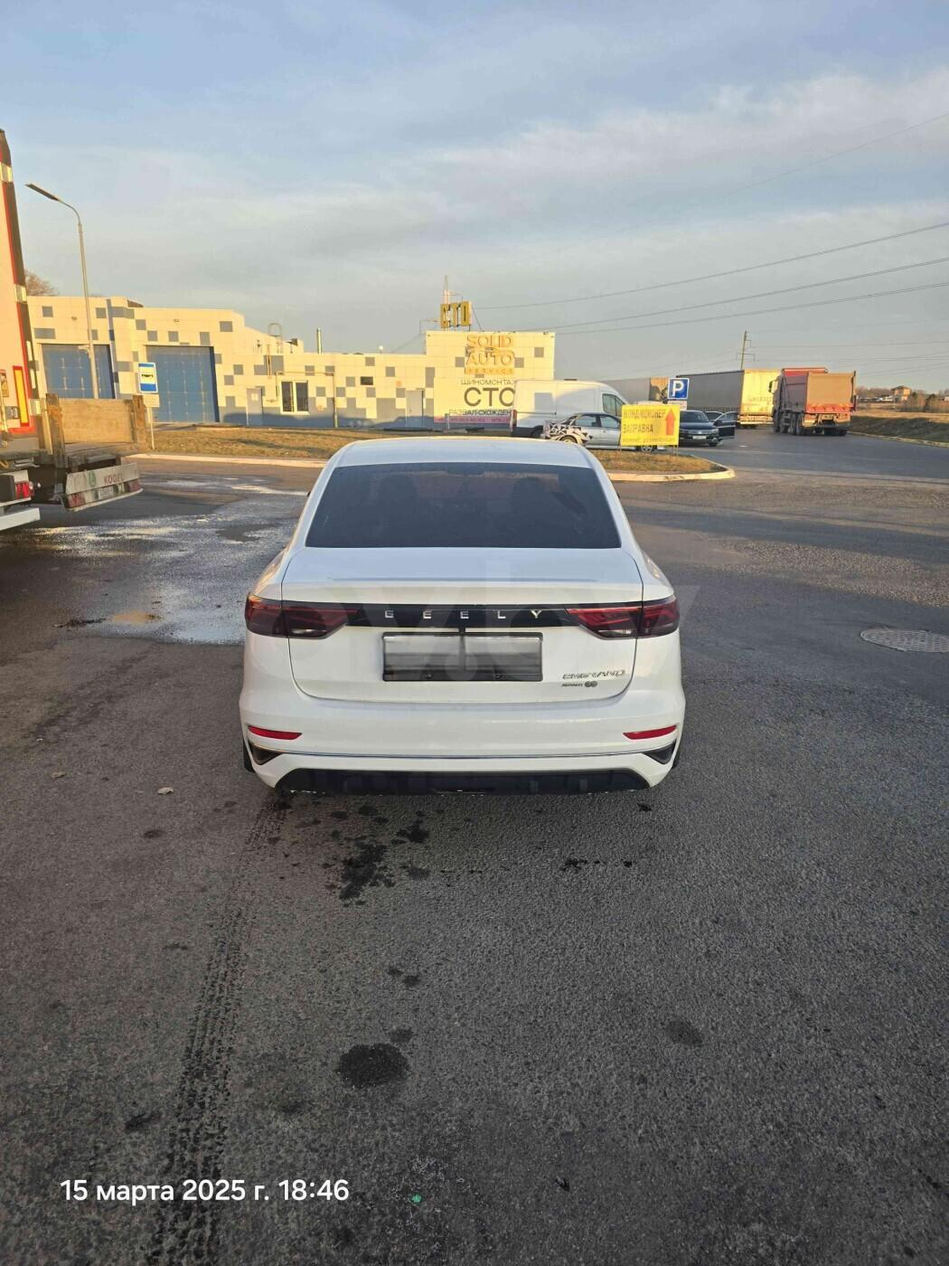Emgrand_2021: (222, 432, 710, 828)
